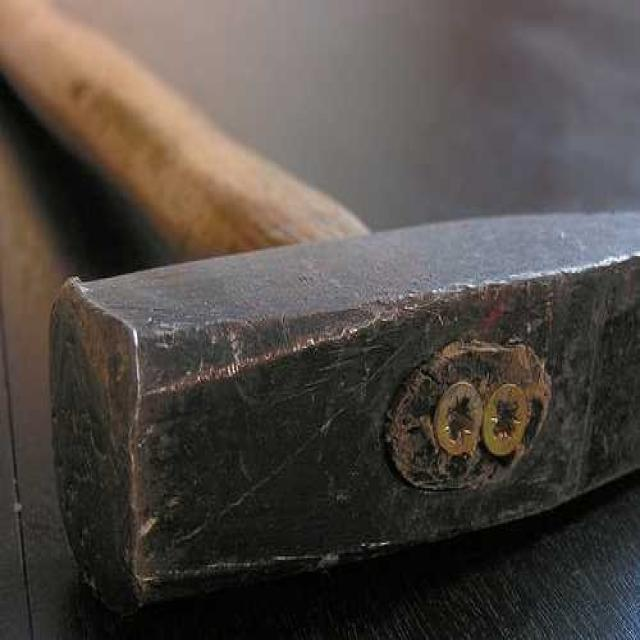hammer: (4, 7, 639, 632)
